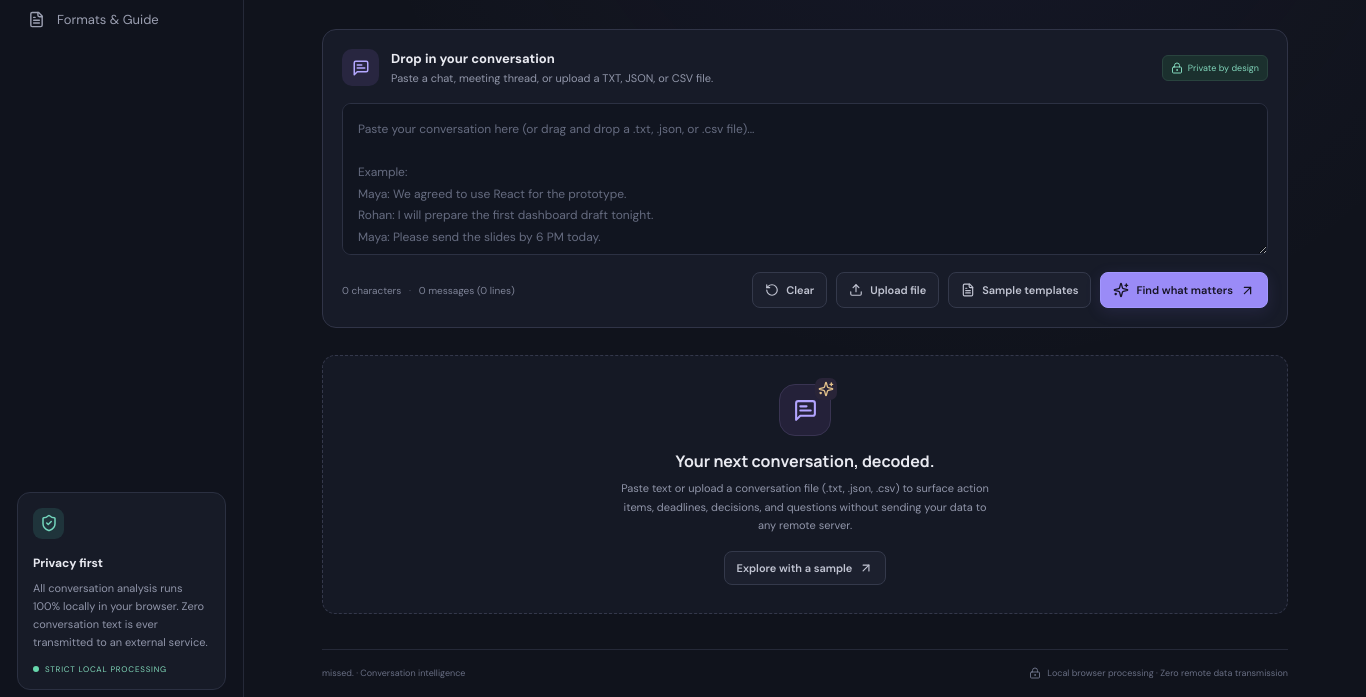
UI State & Input Synchronization Tests › clears conversation and resets state when Clear is clicked
This screenshot has width=1366, height=697.
(page scrolled)
Click the button "Explore with a sample" at coordinates (805, 568), box [724, 551, 886, 585]
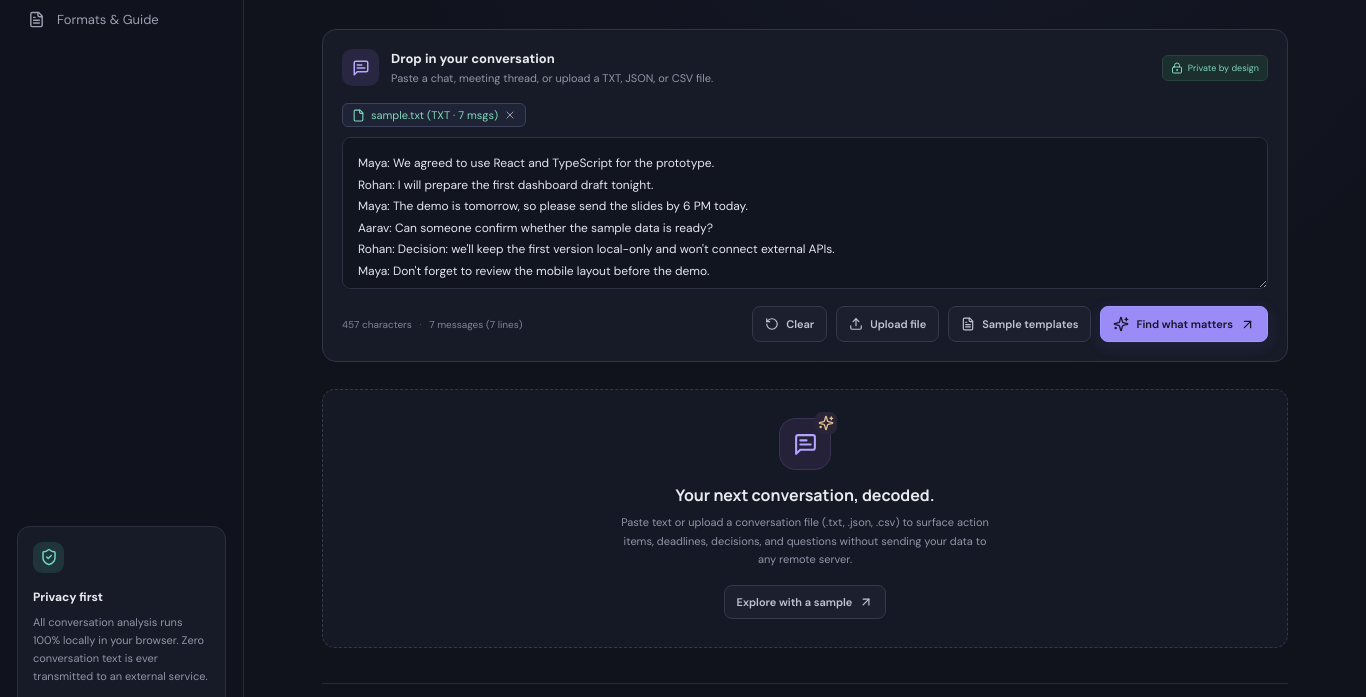
Click the button "Find what matters" at coordinates (1184, 324), box [1100, 306, 1268, 342]
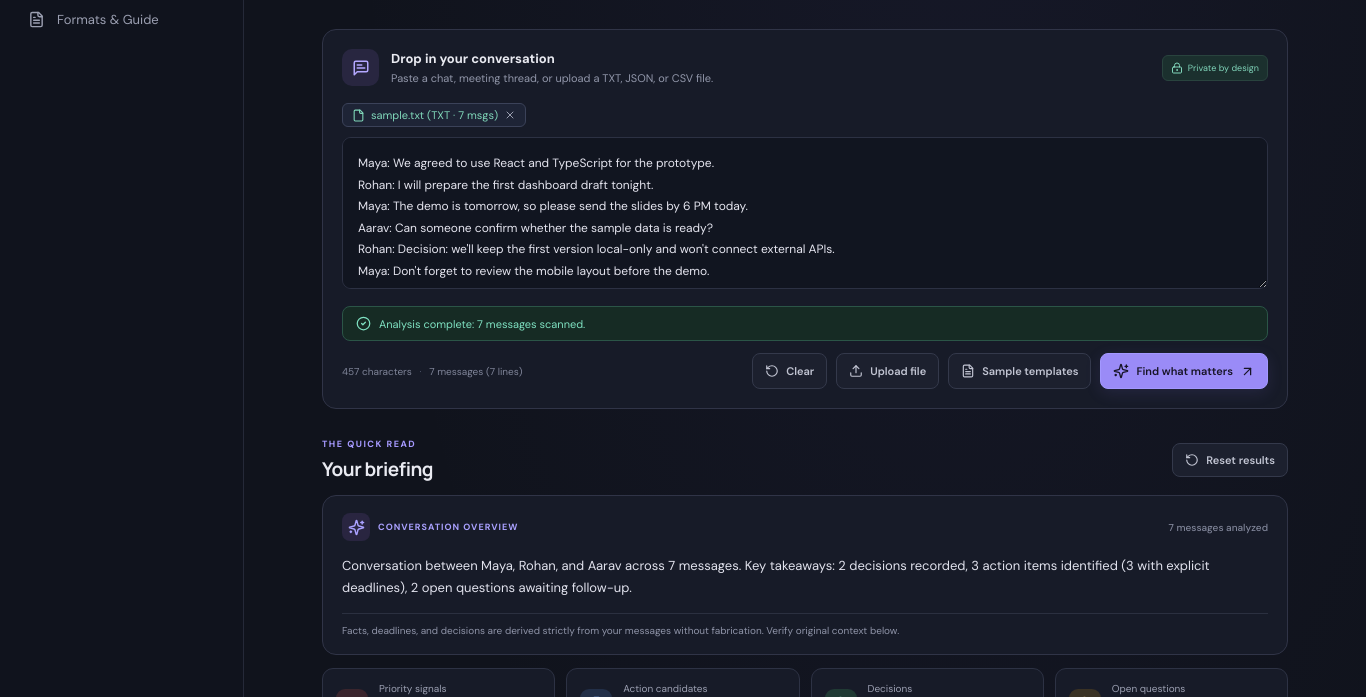
Expected: the heading "Your briefing" is shown, [322, 456, 433, 482]
Click "Clear"
Click the button "Clear" at coordinates (790, 371), box [752, 353, 827, 389]
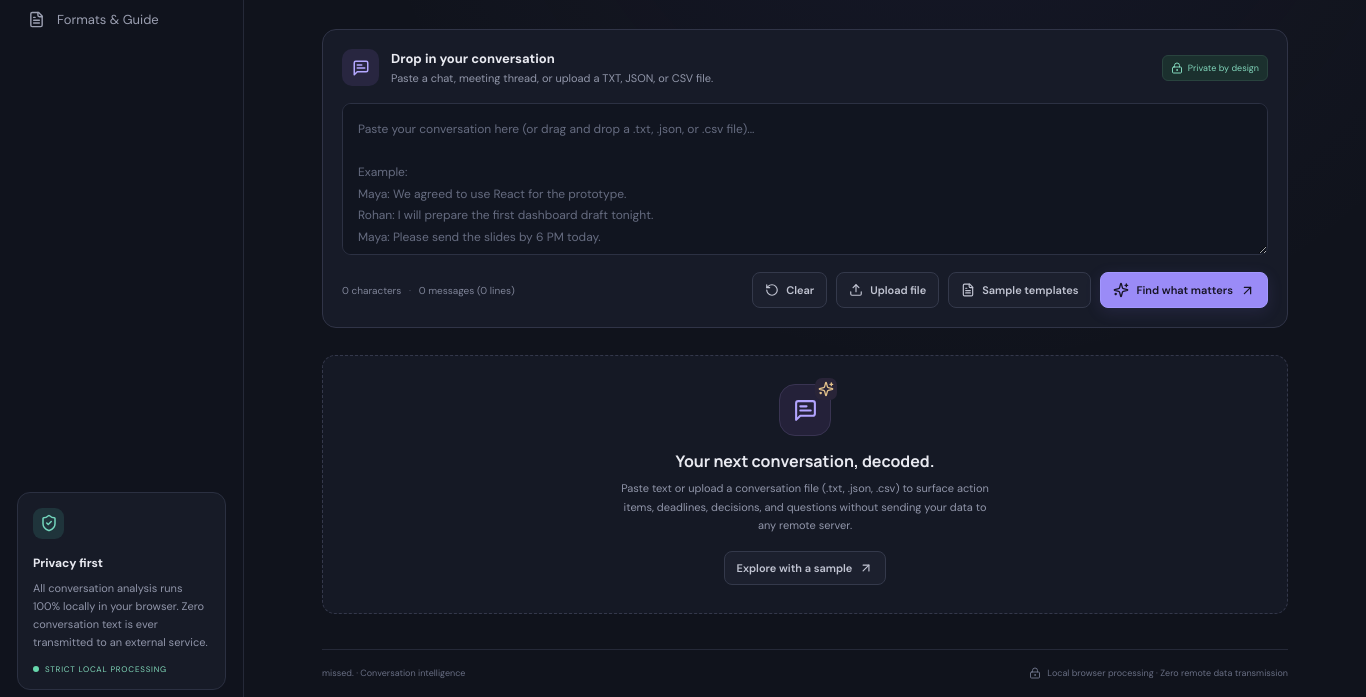
Expected: the text box named "conversation text" is empty, [342, 103, 1268, 255]
Expected: the heading "Your briefing" is gone
